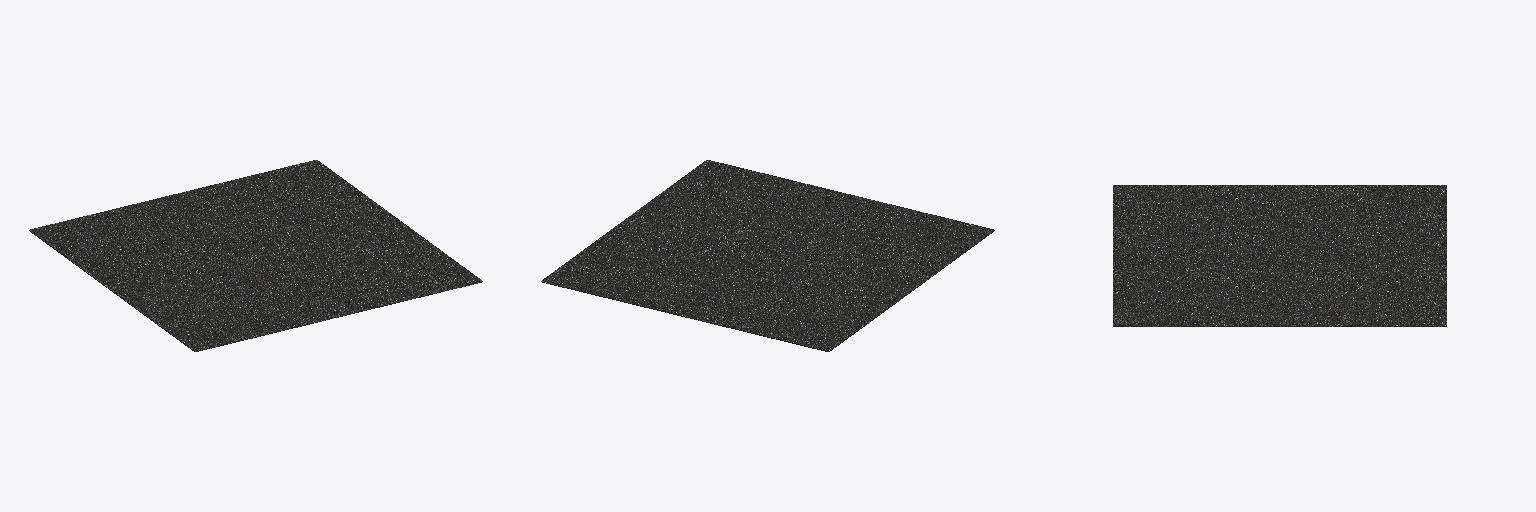
3 renders of one model, left to right at view 1: azimuth 30°, elevation 25°; view 2: azimuth 150°, elevation 25°; view 3: azimuth 270°, elevation 25°, orthographic.
Parts seen in each view (by area): view 1: Cube.001_Cube.002; view 2: Cube.001_Cube.002; view 3: Cube.001_Cube.002.
Part boxes in pixels (x1,y1,x2,y2): Cube.001_Cube.002: (29, 160, 482, 351); Cube.001_Cube.002: (541, 160, 994, 351); Cube.001_Cube.002: (1113, 185, 1446, 326).
Size of the model in its own units: 40 by 0.1 by 40.
Materials: 1 (1 with a texture image).